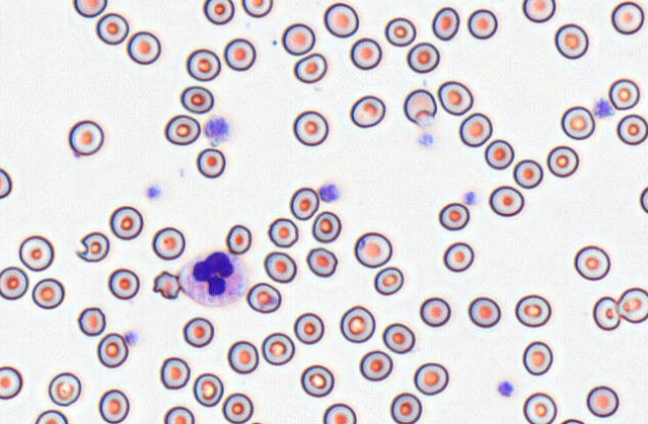GRAN: (176, 248, 249, 307)
PLT: (205, 114, 233, 145), (590, 98, 617, 118), (319, 180, 341, 204), (496, 378, 515, 398), (462, 190, 479, 206), (145, 185, 163, 200), (125, 330, 140, 346)
RBC: (353, 231, 392, 268), (339, 305, 375, 343), (68, 119, 104, 156), (18, 235, 54, 271), (323, 2, 359, 38), (292, 110, 328, 146), (437, 80, 473, 115), (574, 245, 610, 280), (126, 30, 161, 65), (560, 105, 595, 140), (554, 23, 588, 59), (514, 294, 551, 327), (109, 205, 143, 240), (458, 112, 492, 147), (185, 48, 221, 81), (349, 95, 385, 128), (151, 226, 185, 260), (413, 362, 448, 395), (96, 332, 128, 368), (488, 185, 524, 217), (616, 287, 648, 323), (48, 372, 81, 406), (300, 364, 334, 397), (610, 1, 644, 34), (281, 22, 315, 55), (95, 12, 129, 45), (223, 37, 256, 71), (164, 114, 200, 145), (261, 332, 294, 365), (467, 296, 501, 328), (246, 282, 281, 313), (98, 388, 129, 423), (522, 392, 557, 423), (31, 277, 64, 309), (263, 251, 296, 283), (406, 41, 439, 73), (586, 385, 619, 417), (546, 145, 579, 177), (349, 37, 381, 70), (227, 340, 258, 374), (293, 52, 327, 83), (193, 372, 223, 407), (522, 340, 552, 375), (107, 268, 139, 300), (616, 113, 648, 145), (608, 78, 640, 110), (159, 356, 190, 389), (359, 350, 392, 381), (382, 322, 415, 353), (182, 316, 214, 347), (293, 312, 324, 344), (390, 392, 422, 423), (442, 241, 474, 272), (311, 210, 341, 243), (289, 187, 319, 220), (180, 85, 214, 114), (0, 265, 28, 300), (419, 296, 450, 327), (222, 392, 253, 423), (592, 296, 620, 330), (431, 6, 459, 40), (267, 217, 298, 247), (306, 247, 337, 277), (484, 138, 514, 169), (467, 8, 497, 39), (384, 17, 416, 46), (513, 158, 543, 188), (196, 147, 225, 178), (77, 306, 106, 336), (373, 266, 403, 295), (438, 202, 469, 230), (202, 0, 234, 25), (225, 224, 251, 254), (522, 0, 555, 23), (0, 365, 22, 399), (322, 402, 356, 423), (72, 0, 107, 17), (163, 405, 194, 423), (241, 0, 273, 17), (34, 409, 68, 423), (0, 167, 12, 199), (639, 185, 648, 213), (559, 418, 585, 424), (644, 387, 648, 417), (162, 0, 195, 3)
Schistocyte: (403, 88, 438, 123), (75, 230, 111, 263), (151, 270, 182, 301)
